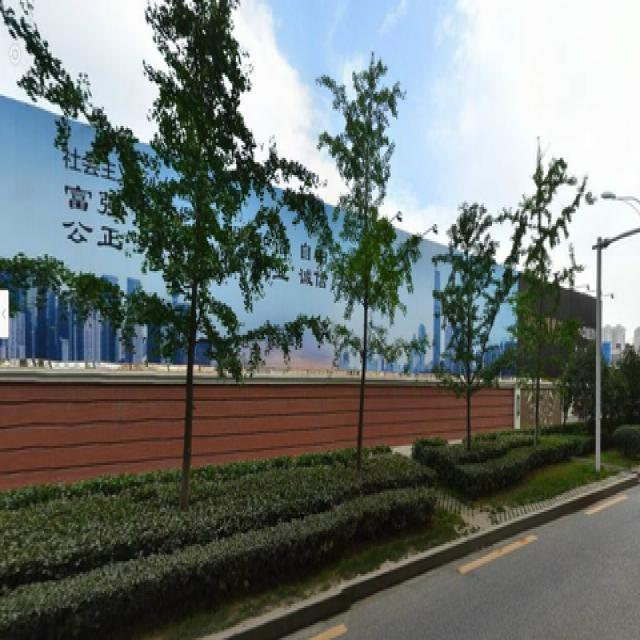gink: (135, 12, 241, 442), (331, 66, 406, 446), (513, 143, 568, 435), (441, 202, 496, 426)
